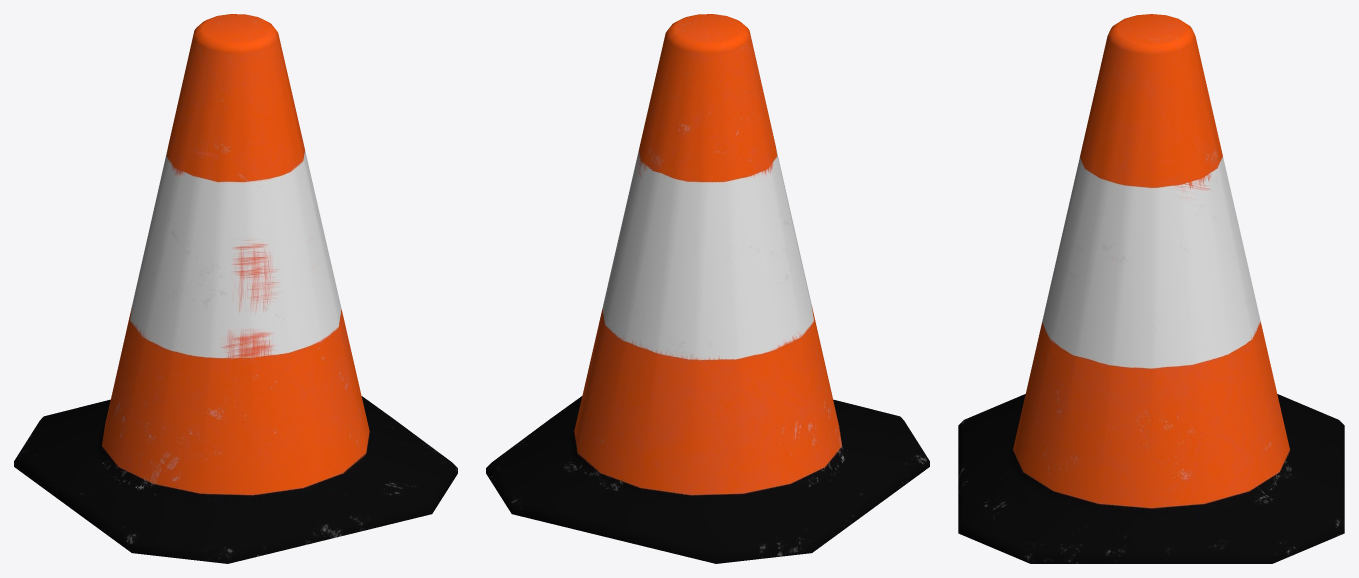
Rendered from traffic-cone-textures-1k.glb.
3 views of the same model, side by side, from view 1: azimuth 30°, elevation 25°; view 2: azimuth 150°, elevation 25°; view 3: azimuth 270°, elevation 25° (orthographic). The views are drawn at different scales.
Parts seen in each view (by area): view 1: Object_3; view 2: Object_3; view 3: Object_3.
Part boxes in pixels (<box>): Object_3: <box>14,14,457,563</box>; Object_3: <box>486,14,929,563</box>; Object_3: <box>958,14,1344,563</box>.
Size of the model in its own units: 0.3538 by 0.4581 by 0.3535.
1 material, 1 textured.
